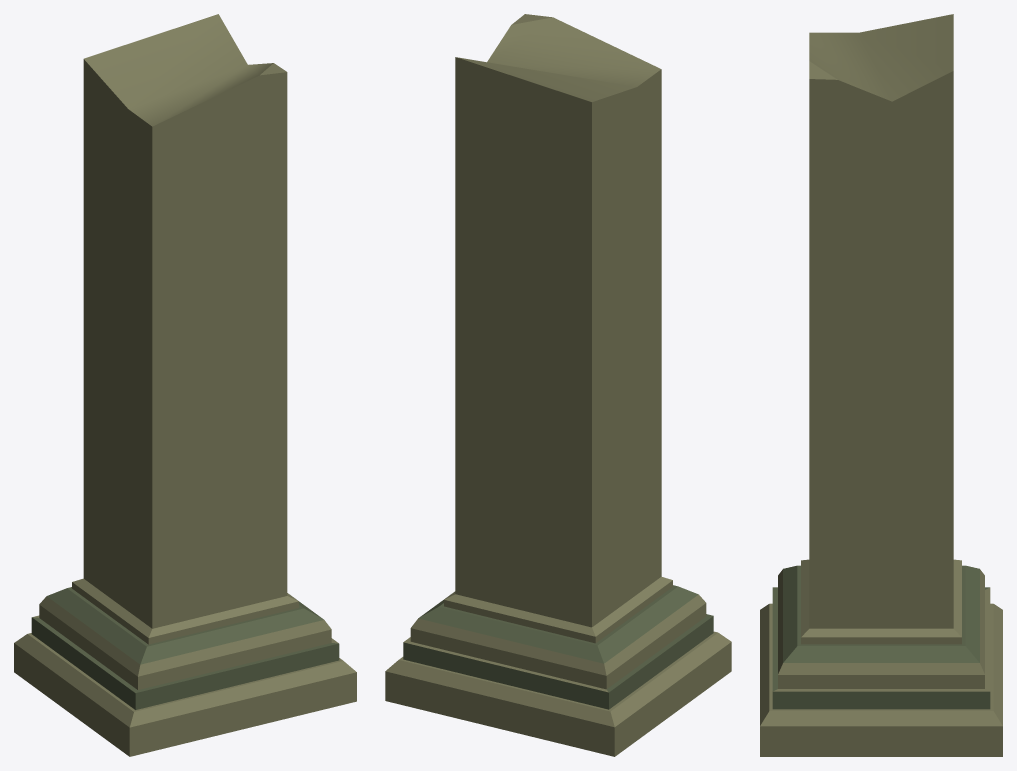
Rendered from ruineColumn01half1.fbx.
The picture shows the model from 3 angles, left to right: view 1: azimuth 30°, elevation 25°; view 2: azimuth 150°, elevation 25°; view 3: azimuth 270°, elevation 25°; orthographic projection. The views are drawn at different scales.
Visible parts, largest first — view 1: ruineColumn01half1; view 2: ruineColumn01half1; view 3: ruineColumn01half1.
Part boxes in pixels (x1=…): ruineColumn01half1: x1=14, y1=14, x2=356, y2=756; ruineColumn01half1: x1=385, y1=14, x2=731, y2=756; ruineColumn01half1: x1=760, y1=14, x2=1002, y2=756.
Size of the model in its own units: 1.2 by 3.2 by 1.06.
